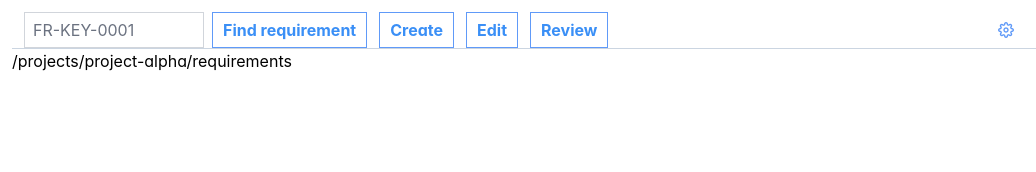
Test case: ActionBar › renders › opens the review workspace for a selected draft requirement.
Step 1. Click the button "Review" → {"x": 569, "y": 30}, box 530,12 -> 608,48
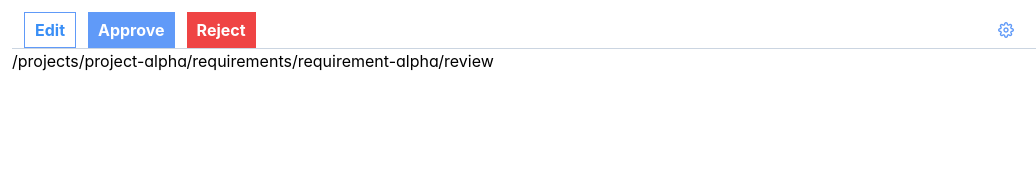
Result: the text named "Current route" reads "/projects/project-alpha/requirements/requirement-alpha/review" at 12,51 -> 494,71
